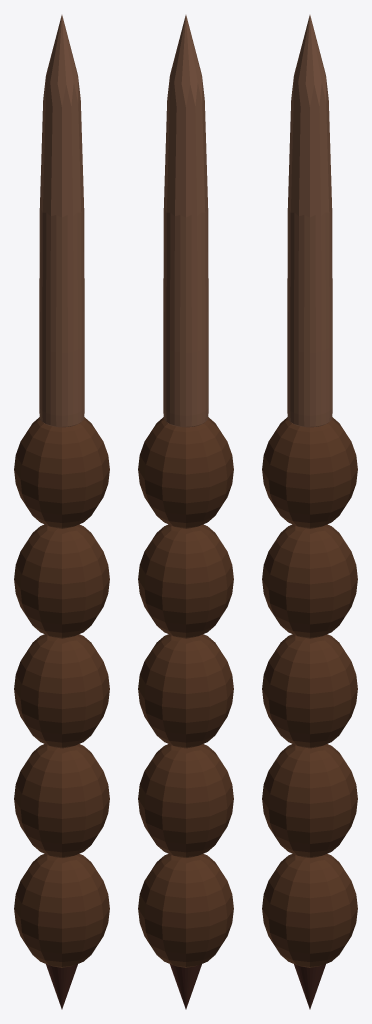
File: Wand 202.glb
3 views of the same model, side by side, from view 1: azimuth 30°, elevation 25°; view 2: azimuth 210°, elevation 25°; view 3: azimuth 270°, elevation 25° (orthographic).
Parts seen in each view (by area): view 1: GeneratedWand; view 2: GeneratedWand; view 3: GeneratedWand.
Part boxes in pixels (x1,y1,x2,y2): GeneratedWand: (14,15,109,1009); GeneratedWand: (138,15,233,1009); GeneratedWand: (262,15,357,1009).
Size of the model in its own units: 0.0447 by 0.5145 by 0.0449.
